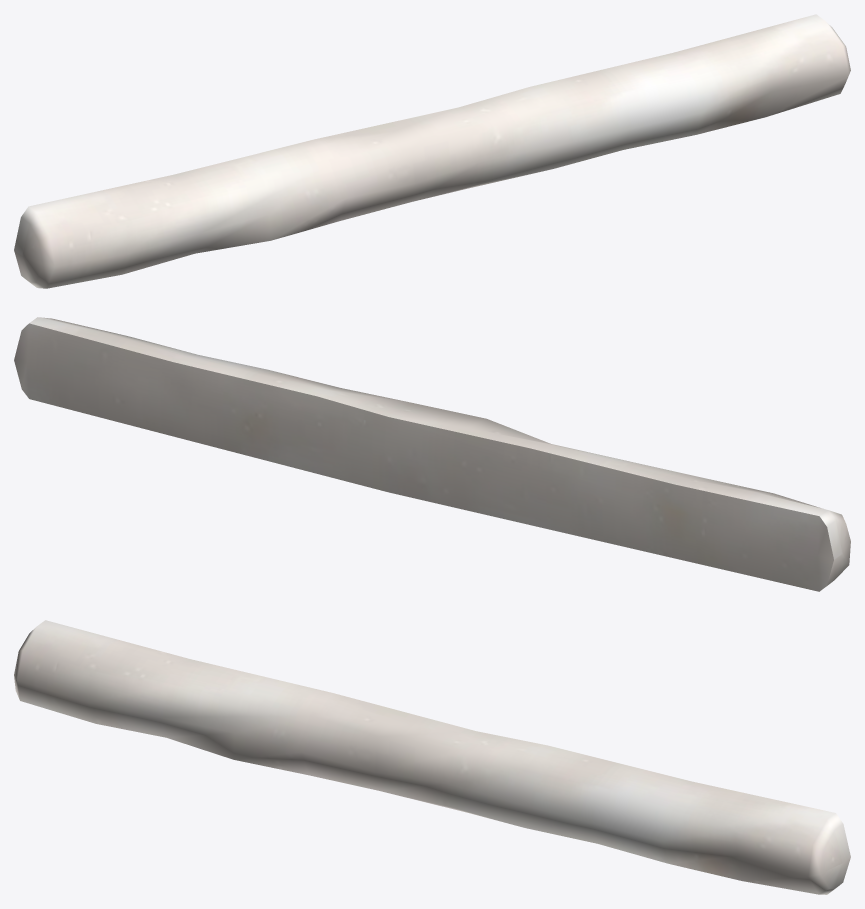
The model's file is roof.triangle.gingerbread.down.top.line.glb.
The picture shows the model from 3 angles, top to bottom: view 1: azimuth 30°, elevation 25°; view 2: azimuth 150°, elevation 25°; view 3: azimuth 330°, elevation 25°; orthographic projection.
Parts seen in each view (by area): view 1: roof.triangle.down.top.line_LOD0; view 2: roof.triangle.down.top.line_LOD0; view 3: roof.triangle.down.top.line_LOD0.
Part boxes in pixels (bbox=[...]): roof.triangle.down.top.line_LOD0: bbox=[14, 14, 850, 288]; roof.triangle.down.top.line_LOD0: bbox=[14, 317, 850, 591]; roof.triangle.down.top.line_LOD0: bbox=[14, 620, 850, 894].
Size of the model in its own units: 3.04 by 0.2878 by 0.2143.
1 material, 1 textured.
